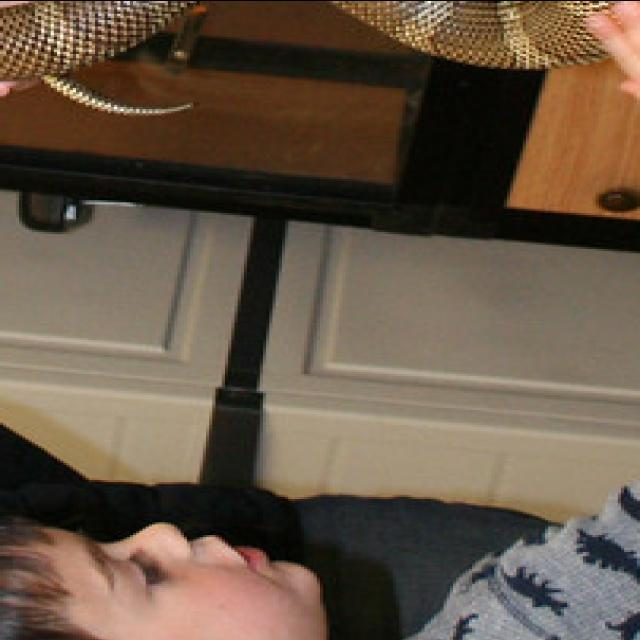Snake: (0, 0, 640, 119)
